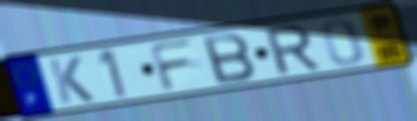0: (319, 17, 366, 67)
1: (96, 47, 130, 101)
B: (199, 32, 258, 86)
F: (147, 37, 199, 94)
K: (45, 54, 97, 106)
R: (262, 23, 323, 77)
